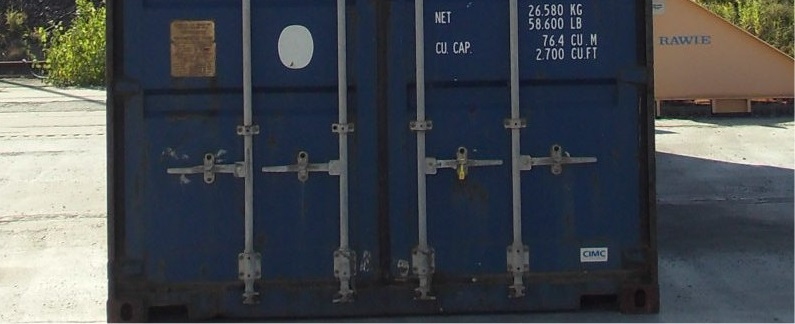container_door: (101, 6, 662, 319)
